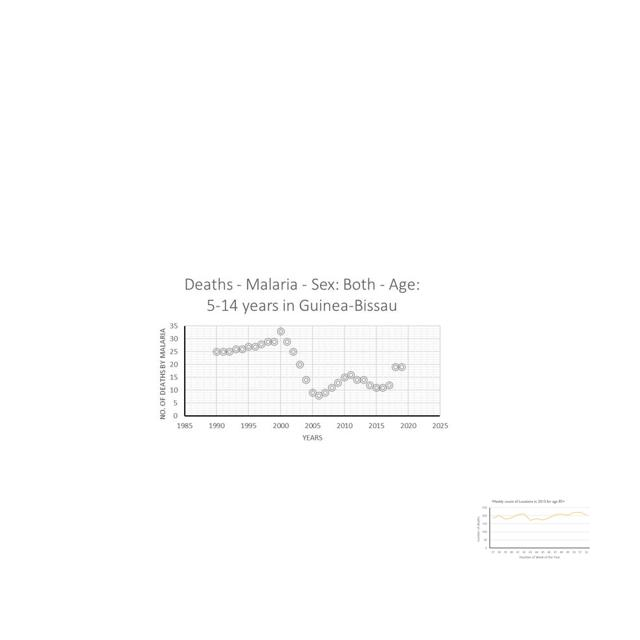Graph: (151, 272, 454, 445), (475, 497, 591, 560)
